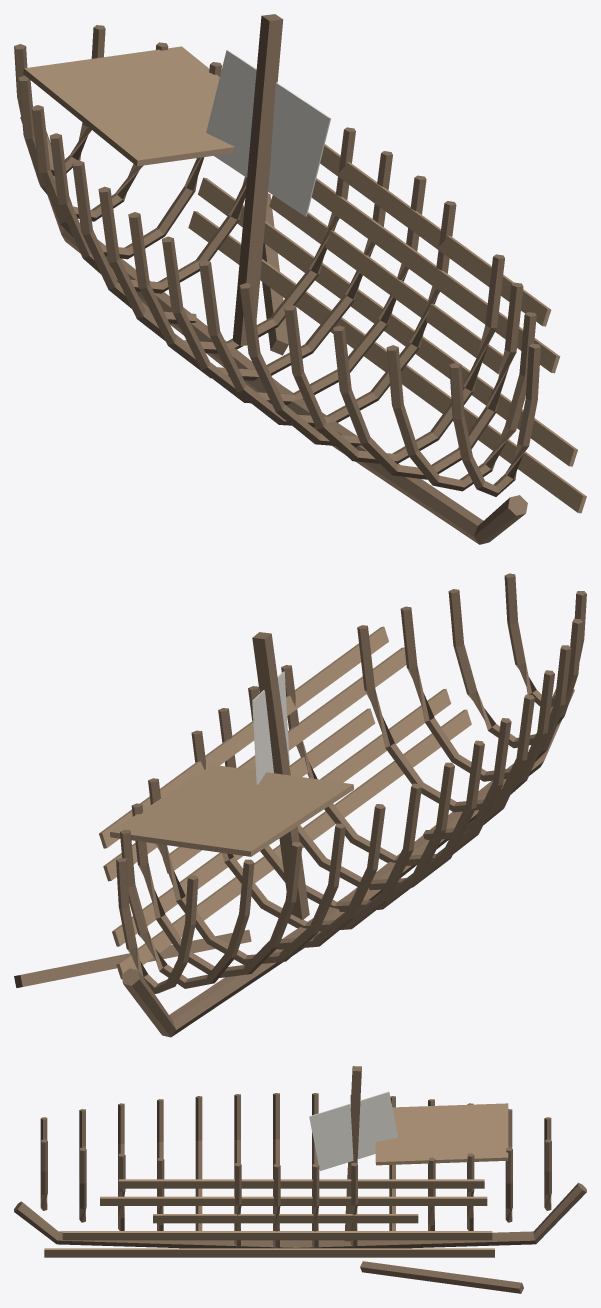
The model's file is shipwreck.glb.
3 renders of one model, top to bottom at view 1: azimuth 30°, elevation 25°; view 2: azimuth 150°, elevation 25°; view 3: azimuth 270°, elevation 25°, orthographic. The views are drawn at different scales.
Parts seen in each view (by area): view 1: shipwreck; view 2: shipwreck; view 3: shipwreck.
Part boxes in pixels (x1,y1,x2,y2): shipwreck: [14, 14, 586, 544]; shipwreck: [14, 573, 586, 1037]; shipwreck: [14, 1066, 586, 1293].
Size of the model in its own units: 8 by 8.33 by 21.61.
